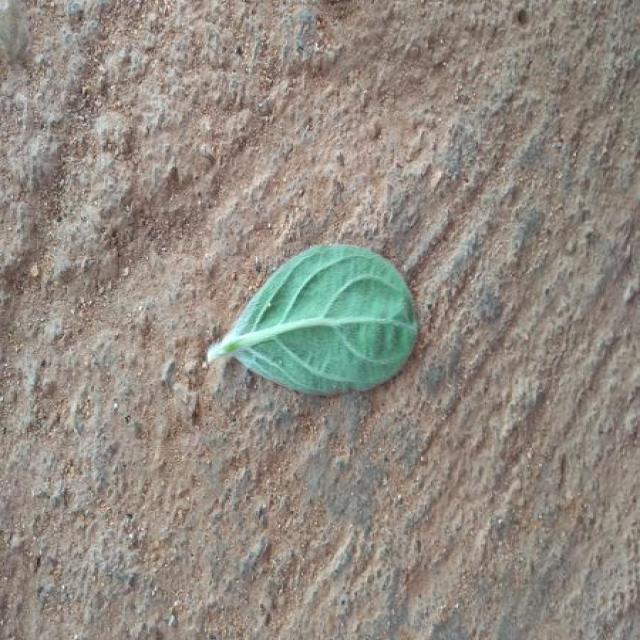globe amarnath: (207, 245, 418, 393)
